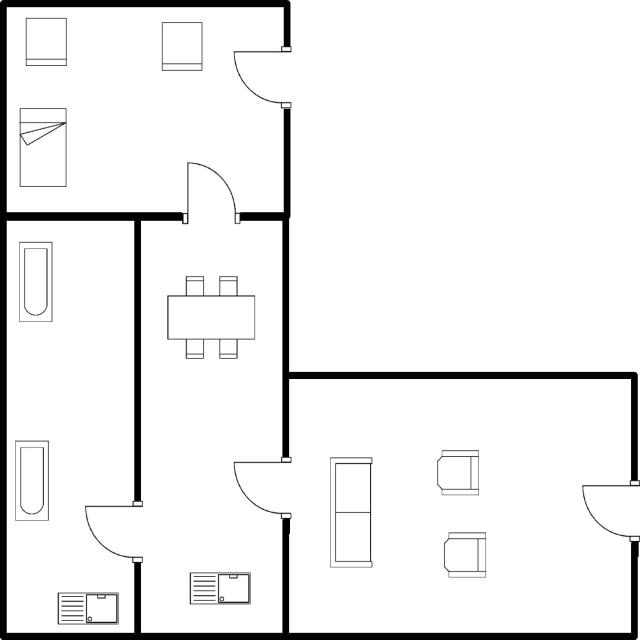armchair: (436, 527, 494, 583), (430, 446, 484, 498)
bed: (16, 104, 70, 190)
dining_table: (164, 271, 258, 363)
large_sofa: (323, 452, 378, 572)
sink: (53, 585, 122, 629), (182, 566, 255, 607)
small_sofa: (20, 13, 72, 71), (158, 16, 206, 75)
tub: (13, 234, 57, 327), (12, 436, 53, 527)
